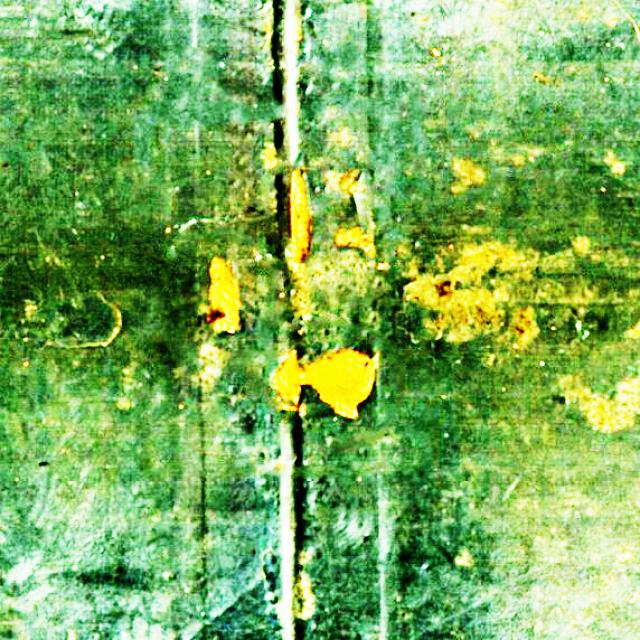Corrosion: (275, 350, 373, 417), (210, 256, 239, 332), (291, 169, 312, 262), (337, 226, 375, 257)
